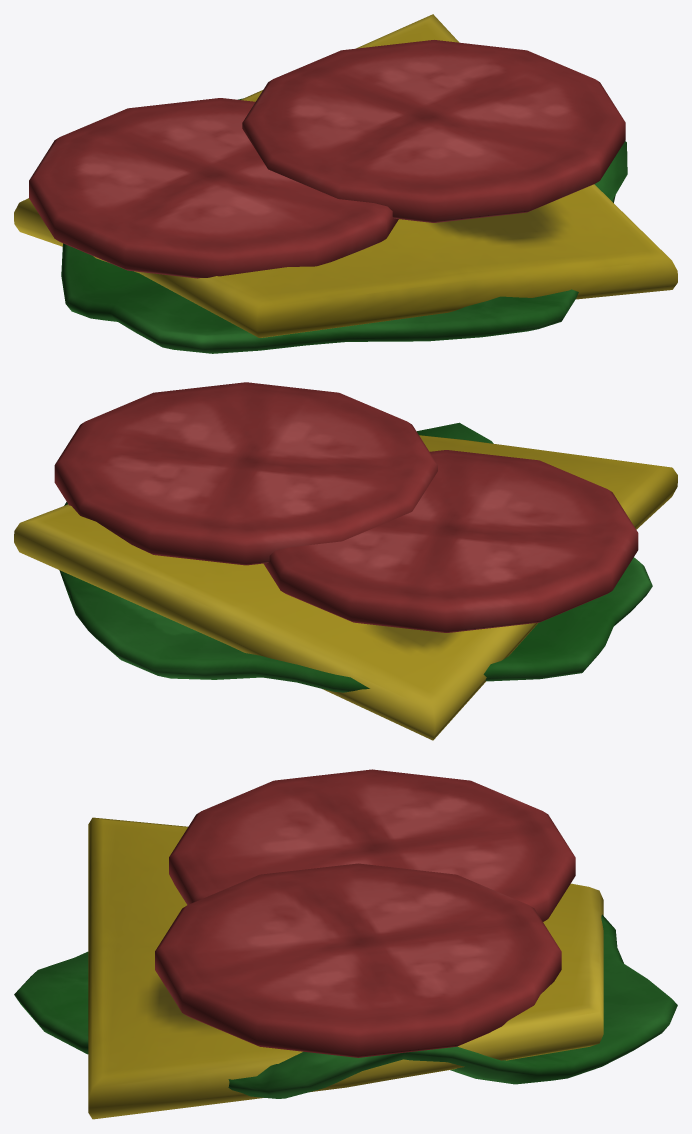
The model's file is MSH_Q_L_J.fbx.
The picture shows the model from 3 angles, top to bottom: view 1: azimuth 30°, elevation 25°; view 2: azimuth 150°, elevation 25°; view 3: azimuth 270°, elevation 25°; orthographic projection. The views are drawn at different scales.
Visible parts, largest first — view 1: MSH_Q_L_J; view 2: MSH_Q_L_J; view 3: MSH_Q_L_J.
Boxes of the visible parts, box(x1,y1,x2,y2) form: MSH_Q_L_J: box(14, 14, 677, 353); MSH_Q_L_J: box(14, 382, 677, 740); MSH_Q_L_J: box(14, 769, 677, 1119).
Bounding box in the file's own units: 16.81 × 16.87 × 4.21.
1 material, 1 textured.
